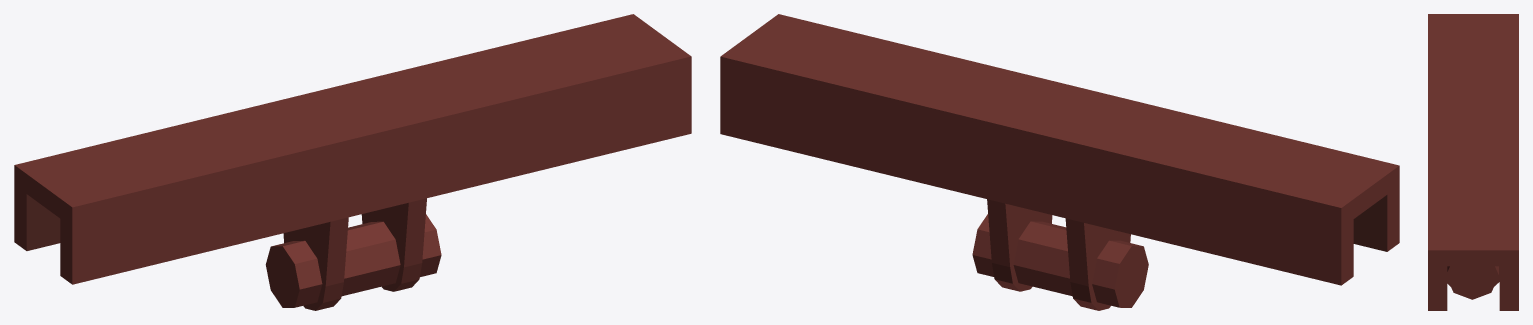
File: SM_Prop_Pipline_Arm_Top_01.fbx
3 renders of one model, left to right at view 1: azimuth 30°, elevation 25°; view 2: azimuth 150°, elevation 25°; view 3: azimuth 270°, elevation 25°, orthographic. The views are drawn at different scales.
Parts seen in each view (by area): view 1: SM_Prop_Pipline_Arm_Top_01; view 2: SM_Prop_Pipline_Arm_Top_01; view 3: SM_Prop_Pipline_Arm_Top_01.
Part boxes in pixels (x1,y1,x2,y2): SM_Prop_Pipline_Arm_Top_01: [14, 14, 691, 310]; SM_Prop_Pipline_Arm_Top_01: [720, 14, 1399, 310]; SM_Prop_Pipline_Arm_Top_01: [1428, 14, 1518, 310].
Size of the model in its own units: 204 by 58.5 by 33.14.
